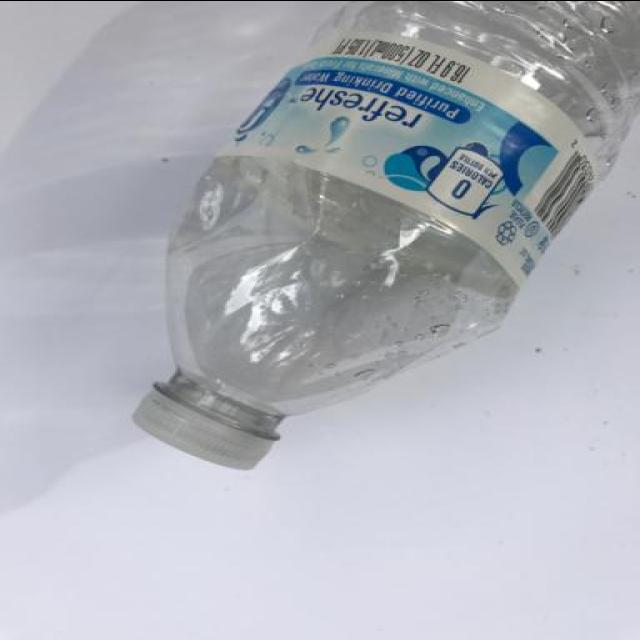litter: (127, 1, 635, 474)
